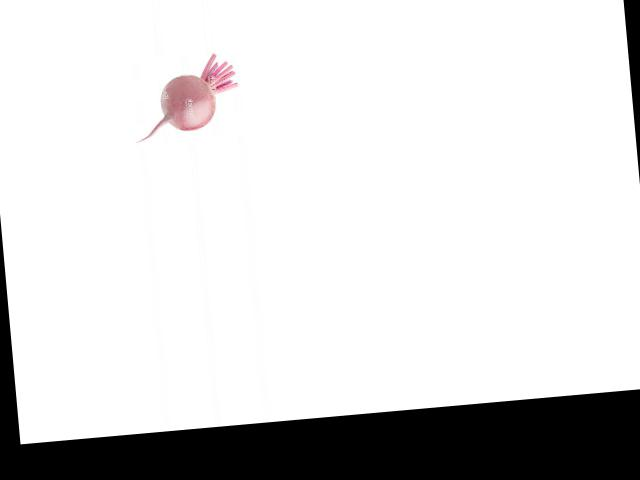beet: (130, 51, 242, 142)
